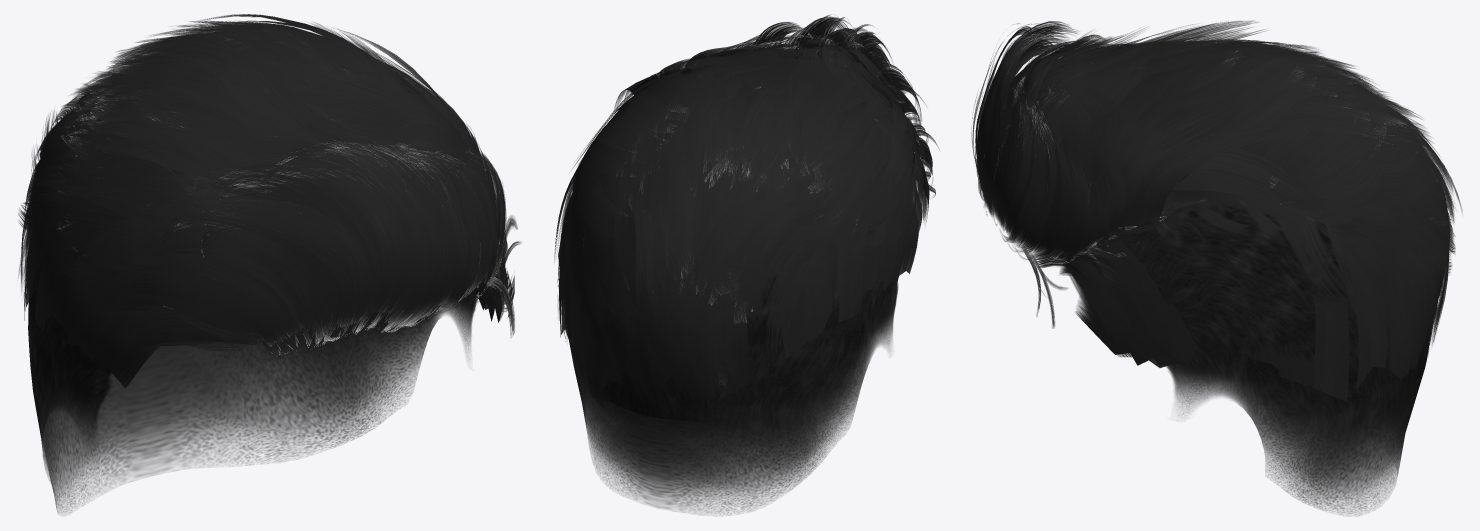
Rendered from oval_straight_taper.glb.
3 renders of one model, left to right at view 1: azimuth 30°, elevation 25°; view 2: azimuth 150°, elevation 25°; view 3: azimuth 270°, elevation 25°, orthographic. The views are drawn at different scales.
Visible parts, largest first — view 1: Quiff.003, taper base; view 2: Quiff.003, taper base; view 3: Quiff.003, taper base.
Part boxes in pixels (left/top/right/bottom): Quiff.003: left=18, top=14, right=521, bottom=388; taper base: left=28, top=249, right=478, bottom=515; Quiff.003: left=554, top=14, right=939, bottom=409; taper base: left=569, top=224, right=898, bottom=516; Quiff.003: left=971, top=20, right=1462, bottom=401; taper base: left=1095, top=200, right=1431, bottom=516.
Size of the model in its own units: 0.2724 by 0.3208 by 0.3299.
2 materials, 2 textured.
